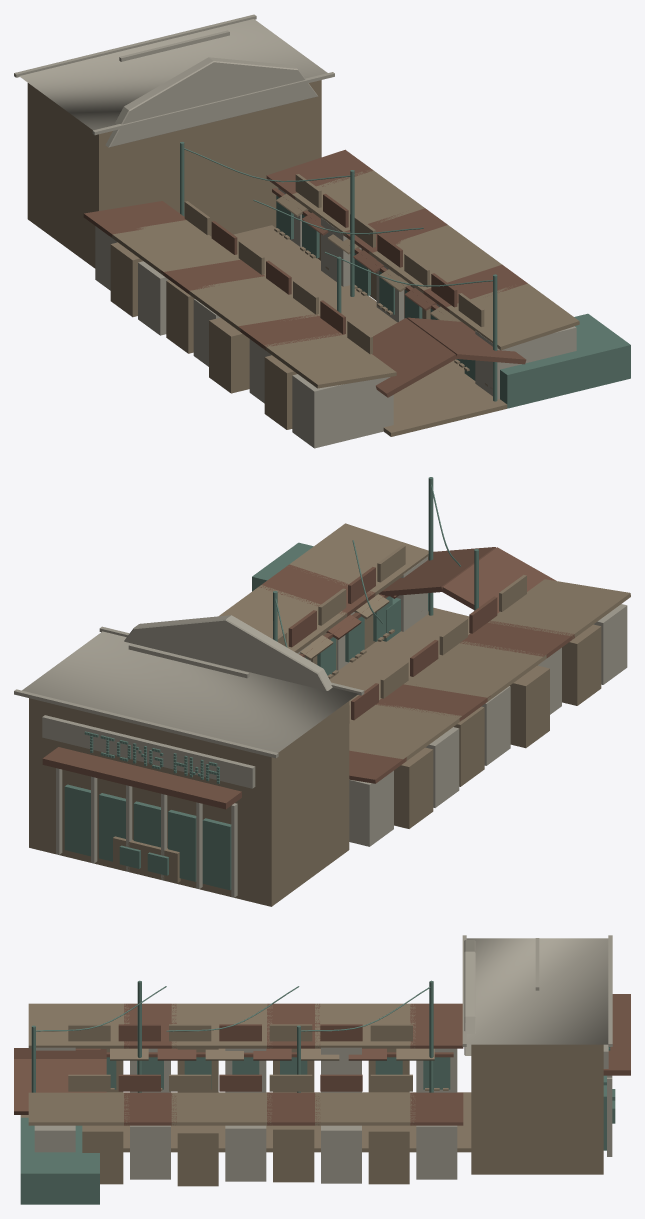
Rendered from beauty-world-market.glb.
3 renders of one model, top to bottom at view 1: azimuth 30°, elevation 25°; view 2: azimuth 150°, elevation 25°; view 3: azimuth 270°, elevation 25°, orthographic. The views are drawn at different scales.
Parts seen in each view (by area): view 1: tiong-hwa-cinema/form, tiong-hwa-street-front/cinema-roof, market-lane/form, tiong-hwa-cinema/cinema-parapet, entertainment-stage/form, stall-rows/stall--1-8, entertainment-stage/stage-roof-left, corrugated-roofs/roof-1-8, stall-rows/stall--1-5, entertainment-stage/stage-roof-right, corrugated-roofs/roof--1-8, stall-rows/stall-1-8 (+28 smaller); view 2: tiong-hwa-cinema/form, tiong-hwa-street-front/cinema-roof, tiong-hwa-cinema/cinema-parapet, tiong-hwa-street-front/marquee-sign-band, tiong-hwa-street-front/deep-cinema-marquee, market-lane/form, entertainment-stage/stage-roof-left, stall-rows/stall--1-5, stall-rows/stall--1-0, stall-rows/stall--1-1, stall-rows/stall--1-7, corrugated-roofs/roof--1-4 (+45 smaller); view 3: tiong-hwa-cinema/form, tiong-hwa-street-front/cinema-roof, entertainment-stage/form, entertainment-stage/stage-roof-right, stall-rows/stall-1-5, stall-rows/stall-1-1, stall-rows/stall-1-3, stall-rows/stall-1-2, stall-rows/stall-1-4, market-lane/form, stall-rows/stall-1-0, stall-rows/stall-1-6 (+59 smaller).
Part boxes in pixels (x1,y1,x2,y2): tiong-hwa-cinema/form: [27, 80, 321, 268]; tiong-hwa-street-front/cinema-roof: [19, 19, 327, 130]; market-lane/form: [234, 225, 507, 436]; tiong-hwa-cinema/cinema-parapet: [105, 57, 317, 147]; entertainment-stage/form: [464, 313, 630, 408]; stall-rows/stall--1-8: [292, 374, 393, 448]; entertainment-stage/stage-roof-left: [372, 318, 456, 397]; corrugated-roofs/roof-1-8: [472, 300, 579, 350]; stall-rows/stall--1-5: [209, 317, 249, 393]; entertainment-stage/stage-roof-right: [407, 317, 526, 364]; corrugated-roofs/roof--1-8: [289, 354, 396, 388]; stall-rows/stall-1-8: [475, 326, 576, 399]; tiong-hwa-cinema/form: [29, 698, 349, 906]; tiong-hwa-street-front/cinema-roof: [22, 631, 358, 752]; tiong-hwa-cinema/cinema-parapet: [124, 615, 332, 690]; tiong-hwa-street-front/marquee-sign-band: [42, 715, 255, 788]; tiong-hwa-street-front/deep-cinema-marquee: [42, 747, 241, 809]; market-lane/form: [330, 607, 469, 721]; entertainment-stage/stage-roof-left: [441, 547, 556, 613]; stall-rows/stall--1-5: [510, 665, 549, 748]; stall-rows/stall--1-0: [349, 770, 393, 846]; stall-rows/stall--1-1: [394, 747, 433, 828]; stall-rows/stall--1-7: [562, 624, 601, 705]; corrugated-roofs/roof--1-4: [404, 661, 518, 701]; tiong-hwa-cinema/form: [471, 1044, 603, 1174]; tiong-hwa-street-front/cinema-roof: [466, 938, 608, 1044]; entertainment-stage/form: [20, 1117, 99, 1204]; entertainment-stage/stage-roof-right: [14, 1059, 106, 1114]; stall-rows/stall-1-5: [177, 1125, 218, 1186]; stall-rows/stall-1-1: [368, 1125, 409, 1184]; stall-rows/stall-1-3: [273, 1125, 314, 1182]; stall-rows/stall-1-2: [321, 1125, 361, 1183]; stall-rows/stall-1-4: [225, 1125, 266, 1181]; market-lane/form: [20, 1092, 471, 1152]; stall-rows/stall-1-0: [416, 1125, 457, 1179]; stall-rows/stall-1-6: [130, 1125, 170, 1179].
Size of the model in its own units: 12.75 by 7.18 by 23.27.
